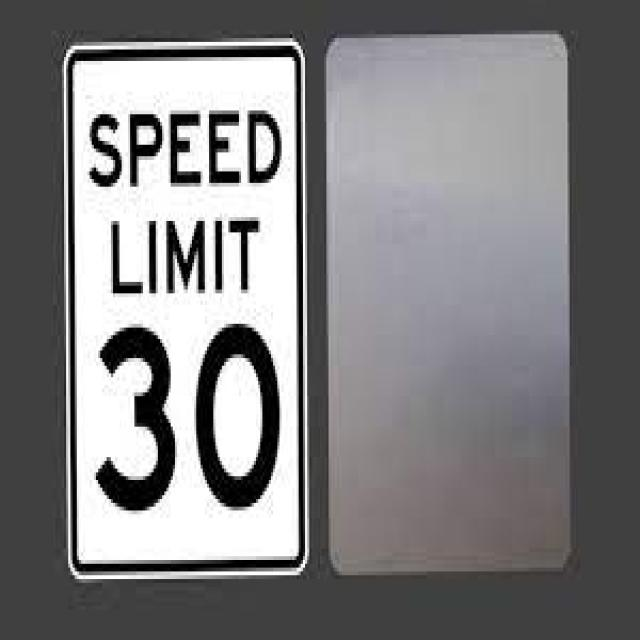speedLimit30: (59, 36, 312, 585)
